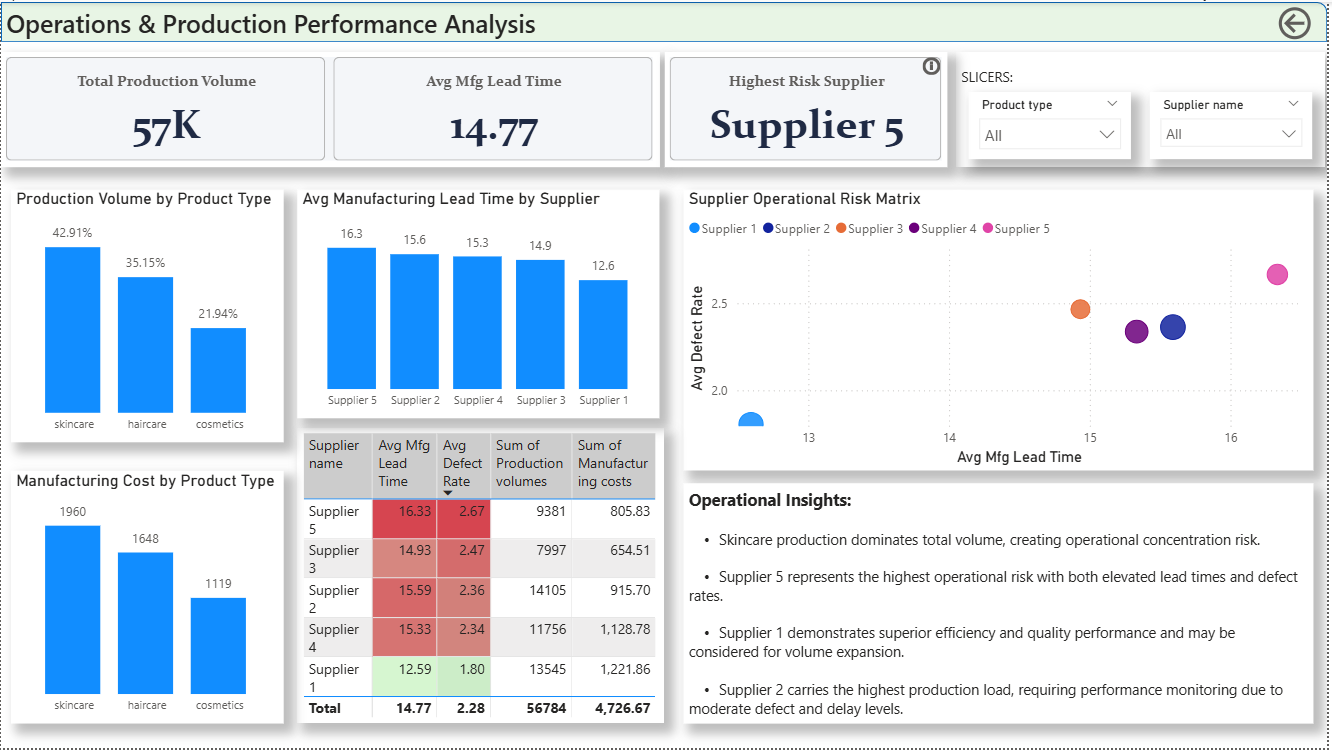

What the dashboard file says about the page in this screenshot:
{"tool":"powerbi","page":{"name":"Ops & prod performance analysis","canvas":[1280,720],"ordinal":1},"visuals":[{"type":"shape","box":[0,0,1280,38.6],"z":0},{"type":"textbox","box":[0,0,570.6,48.3],"z":1000},{"type":"clusteredColumnChart","title":"Production Volume by Product Type","fields":{"Category":["supply_chain_data.Product type"],"Y":["Sum(supply_chain_data.Production volumes)"]},"box":[9.7,181,263,243.7],"z":2000},{"type":"clusteredColumnChart","title":"Manufacturing Cost by Product Type","fields":{"Category":["supply_chain_data.Product type"],"Y":["Sum(supply_chain_data.Manufacturing costs)"]},"box":[9.7,452.4,263,243.7],"z":3000},{"type":"clusteredColumnChart","title":"Avg Manufacturing Lead Time by Supplier","fields":{"Category":["supply_chain_data.Supplier name"],"Y":["Measures Table.Avg Mfg Lead Time"]},"box":[285.9,181,349.9,220.8],"z":4000},{"type":"scatterChart","title":"Supplier Operational Risk Matrix","fields":{"X":["Measures Table.Avg Mfg Lead Time"],"Y":["Measures Table.Avg Defect Rate"],"Size":["Sum(supply_chain_data.Production volumes)"],"Series":["supply_chain_data.Supplier name"]},"box":[658.7,181,608,271.4],"z":5000},{"type":"cardVisual","fields":{"Data":["Sum(supply_chain_data.Production volumes)","Measures Table.Avg Mfg Lead Time"]},"box":[0,48.3,635.8,111],"z":6000},{"type":"tableEx","fields":{"Values":["supply_chain_data.Supplier name","Measures Table.Avg Mfg Lead Time","Measures Table.Avg Defect Rate","Sum(supply_chain_data.Production volumes)","Sum(supply_chain_data.Manufacturing costs)"]},"box":[285.9,411.4,353.5,284.7],"z":7000},{"type":"textbox","box":[658.7,464.5,608,231.6],"z":8000},{"type":"shape","box":[921.7,48.3,355.9,111],"z":9000},{"type":"slicer","fields":{"Values":["supply_chain_data.Product type"]},"box":[934,86.6,156.8,65.1],"z":10000},{"type":"slicer","fields":{"Values":["supply_chain_data.Supplier name"]},"box":[1109,86.6,156.8,65.1],"z":11000},{"type":"textbox","box":[921.5,57.9,148.4,29],"z":12000},{"type":"actionButton","box":[1228.2,0,51.9,41],"z":13000},{"type":"cardVisual","title":"Highest Risk Supplier","fields":{"Data":["Measures Table.Highest Risk Supplier"]},"box":[640.6,48.3,272.7,111],"z":14000},{"type":"actionButton","box":[885,50,25,25],"z":15000}]}

Visuals, with their boxes in screenshot pixels (x1, y1, x2, y2), scaled from the page's 1280x720 canvas onto the 1332x753 screenshot:
shape: rect(0, 0, 1331, 40)
textbox: rect(0, 0, 594, 51)
"Production Volume by Product Type" clusteredColumnChart: rect(10, 189, 284, 444)
"Manufacturing Cost by Product Type" clusteredColumnChart: rect(10, 473, 284, 728)
"Avg Manufacturing Lead Time by Supplier" clusteredColumnChart: rect(298, 189, 662, 420)
"Supplier Operational Risk Matrix" scatterChart: rect(685, 189, 1318, 473)
cardVisual - Sum(supply_chain_data.Production volumes) x Measures Table.Avg Mfg Lead Time: rect(0, 51, 662, 167)
tableEx - supply_chain_data.Supplier name x Measures Table.Avg Mfg Lead Time: rect(298, 430, 665, 728)
textbox: rect(685, 486, 1318, 728)
shape: rect(959, 51, 1330, 167)
slicer - supply_chain_data.Product type: rect(972, 91, 1135, 159)
slicer - supply_chain_data.Supplier name: rect(1154, 91, 1317, 159)
textbox: rect(959, 61, 1113, 91)
actionButton: rect(1278, 0, 1331, 43)
"Highest Risk Supplier" cardVisual: rect(667, 51, 950, 167)
actionButton: rect(921, 52, 947, 78)
